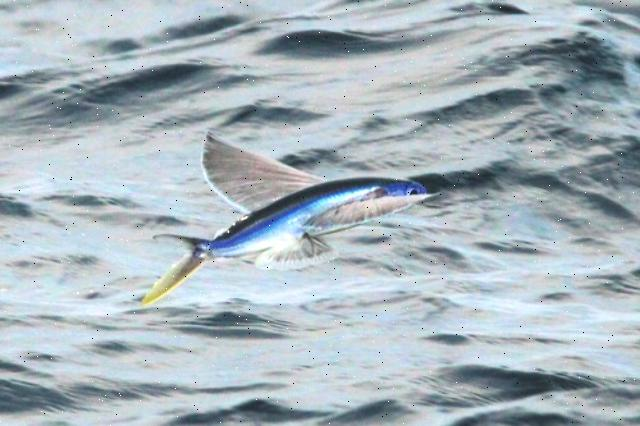Sirip Dada: (190, 124, 330, 220), (307, 185, 443, 233)
Sirip Ekor: (120, 221, 226, 321)
Sirip Perut: (248, 225, 342, 281)
